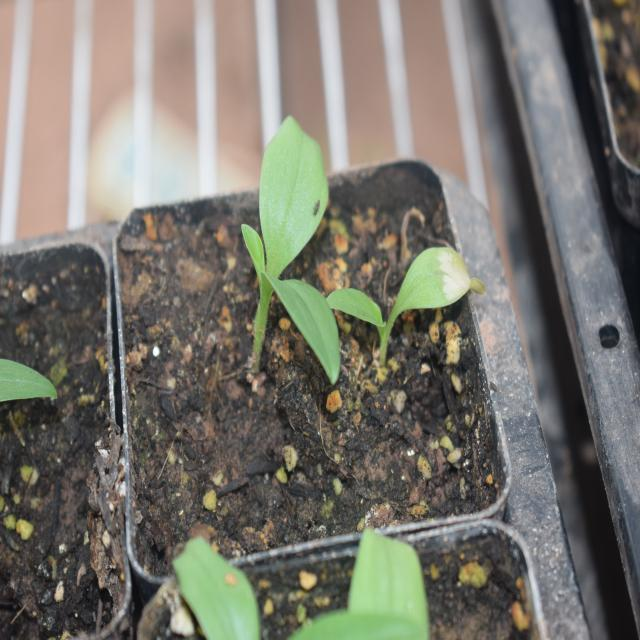Common Dayflower: (233, 111, 379, 386)
